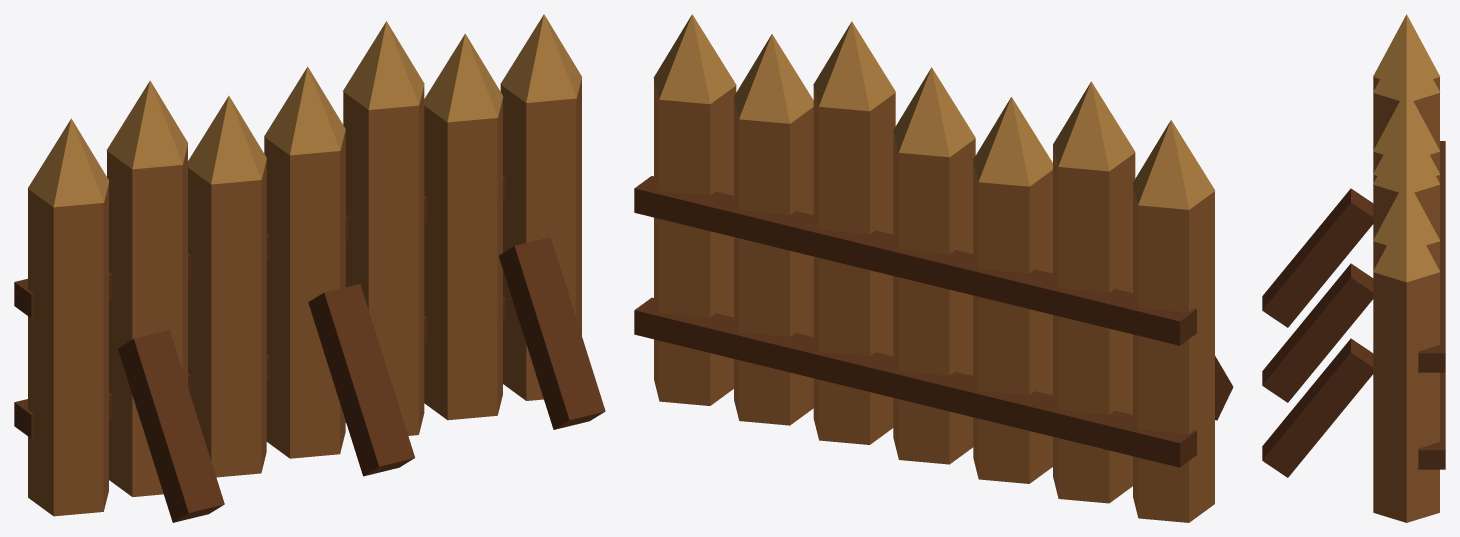
The model's file is palisade.fbx.
3 renders of one model, left to right at view 1: azimuth 30°, elevation 25°; view 2: azimuth 150°, elevation 25°; view 3: azimuth 270°, elevation 25°, orthographic. The views are drawn at different scales.
Parts seen in each view (by area): view 1: palisade; view 2: palisade; view 3: palisade.
Part boxes in pixels (box(x1,y1,x2,y2)): palisade: box(14, 14, 605, 522); palisade: box(634, 14, 1233, 522); palisade: box(1262, 14, 1445, 522).
Bounding box in the file's own units: 1.66 × 1.17 × 0.6001.
